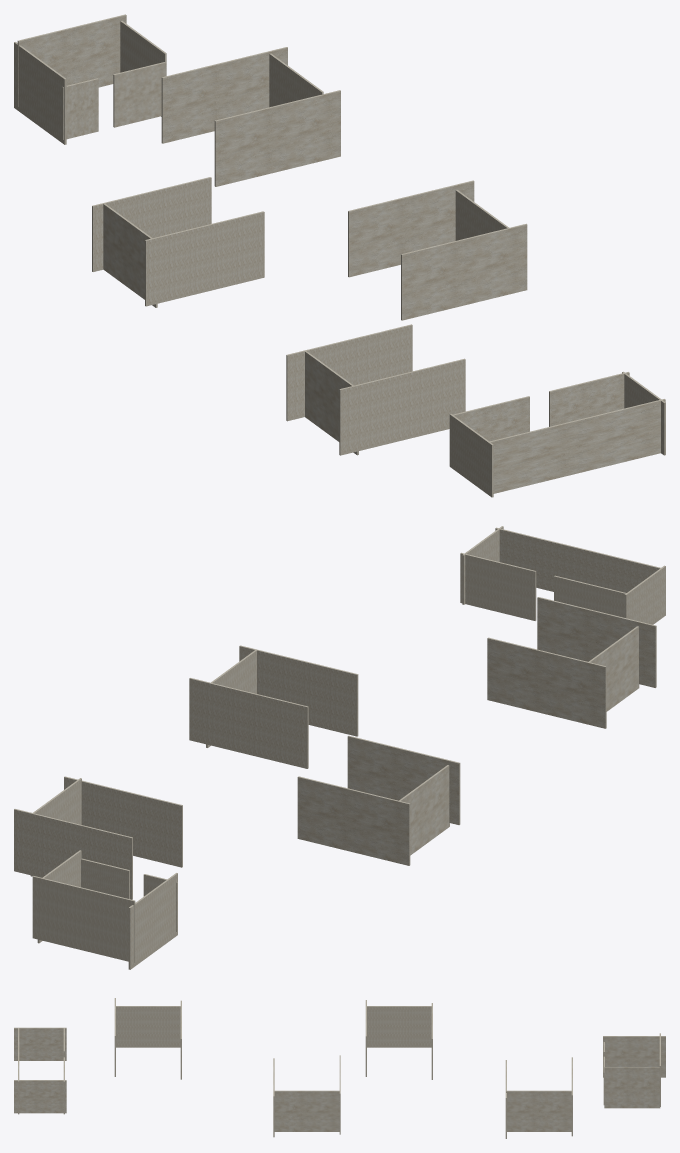
Rendered from HOSPITALLL4.fbx.
The picture shows the model from 3 angles, top to bottom: view 1: azimuth 30°, elevation 25°; view 2: azimuth 150°, elevation 25°; view 3: azimuth 270°, elevation 25°; orthographic projection. The views are drawn at different scales.
Visible parts, largest first — view 1: Cube__7_, Cube__8__2, Cube__8__1, Cube__9__4, Cube__9__3, Cube__9__1, Cube__9__2, Cube__8__4, Cube__8__3, Cube__10_, Cube__17_, Cube__16__2 (+10 smaller); view 2: Cube__8__4, Cube__9__2, Cube__8__3, Cube__10_, Cube__8__2, Cube__8__1, Cube__9__1, Cube__9__4, Cube__7_, Cube__9__3, Cube__4_, Cube__17_ (+9 smaller); view 3: Cube__16__1, Cube__16_, Cube__16__2, Cube__16__3, Cube__18_, Cube__17_, Cube__6_, Cube__5_.
Boxes of the visible parts, bbox=[...] form: Cube__7_: bbox=[489, 399, 665, 493]; Cube__8__2: bbox=[401, 223, 527, 320]; Cube__8__1: bbox=[214, 90, 340, 186]; Cube__9__4: bbox=[339, 358, 465, 455]; Cube__9__3: bbox=[145, 211, 264, 306]; Cube__9__1: bbox=[161, 47, 287, 143]; Cube__9__2: bbox=[348, 180, 474, 277]; Cube__8__4: bbox=[286, 324, 412, 421]; Cube__8__3: bbox=[92, 177, 211, 271]; Cube__10_: bbox=[17, 14, 126, 106]; Cube__17_: bbox=[14, 42, 66, 144]; Cube__16__2: bbox=[103, 203, 157, 307]; Cube__8__4: bbox=[487, 637, 606, 728]; Cube__9__2: bbox=[189, 678, 308, 768]; Cube__8__3: bbox=[297, 776, 410, 865]; Cube__10_: bbox=[32, 876, 135, 962]; Cube__8__2: bbox=[239, 645, 358, 736]; Cube__8__1: bbox=[64, 776, 182, 867]; Cube__9__1: bbox=[14, 809, 132, 899]; Cube__9__4: bbox=[537, 597, 656, 687]; Cube__7_: bbox=[495, 527, 660, 592]; Cube__9__3: bbox=[347, 735, 460, 824]; Cube__4_: bbox=[460, 552, 536, 620]; Cube__17_: bbox=[128, 873, 177, 969]; Cube__16__1: bbox=[274, 1090, 339, 1131]; Cube__16_: bbox=[506, 1090, 571, 1131]; Cube__16__2: bbox=[367, 1006, 431, 1047]; Cube__16__3: bbox=[116, 1006, 180, 1047]; Cube__18_: bbox=[604, 1067, 660, 1108]; Cube__17_: bbox=[603, 1036, 665, 1077]; Cube__6_: bbox=[14, 1027, 66, 1060]; Cube__5_: bbox=[14, 1080, 66, 1113].
Bounding box in the file's own units: 2508 × 555 × 7226.
1 material, 1 textured.
